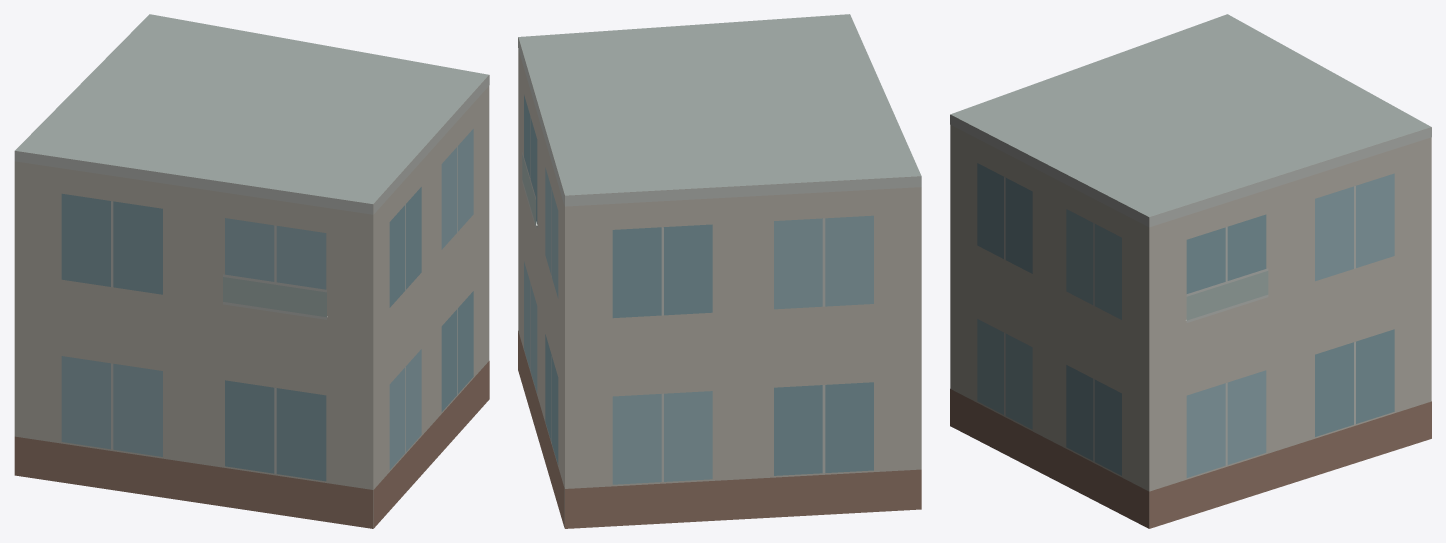
File: survey-upis-32602156.glb
The picture shows the model from 3 angles, left to right: view 1: azimuth 30°, elevation 25°; view 2: azimuth 150°, elevation 25°; view 3: azimuth 270°, elevation 25°; orthographic projection. The views are drawn at different scales.
Parts seen in each view (by area): view 1: survey-upis-32602156.tmp; view 2: survey-upis-32602156.tmp; view 3: survey-upis-32602156.tmp.
Part boxes in pixels (x1,y1,x2,y2): survey-upis-32602156.tmp: (14, 14, 489, 528); survey-upis-32602156.tmp: (518, 14, 921, 528); survey-upis-32602156.tmp: (950, 14, 1431, 528).
Size of the model in its own units: 10.43 by 7.45 by 10.44.
